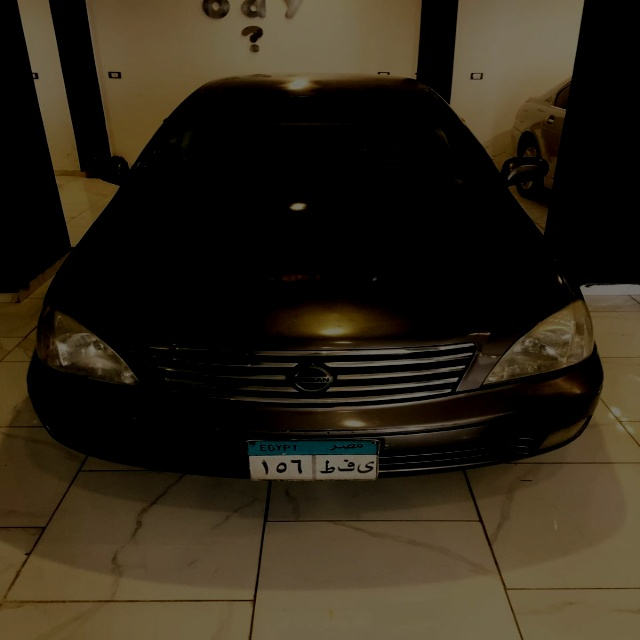License Plate: (245, 438, 380, 483)
